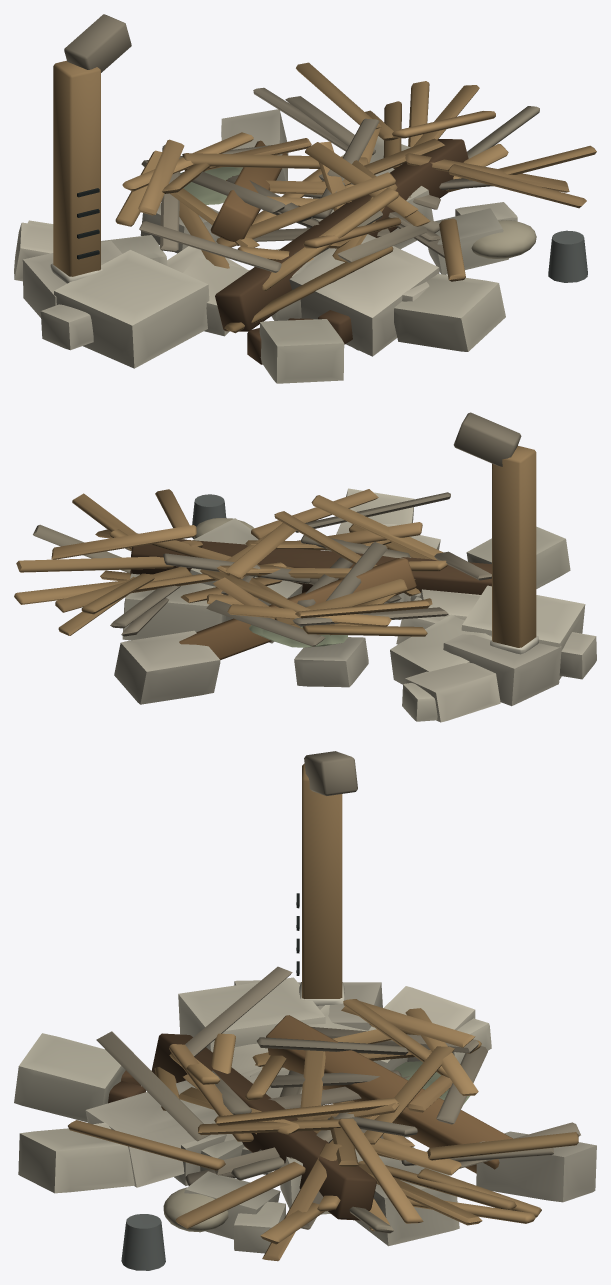
File: gallery_collapse_a_lod1.glb
3 views of the same model, one above another, from view 1: azimuth 30°, elevation 25°; view 2: azimuth 150°, elevation 25°; view 3: azimuth 270°, elevation 25° (orthographic). The views are drawn at different scales.
Parts seen in each view (by area): view 1: Surface.001; view 2: Surface.001; view 3: Surface.001.
Part boxes in pixels (x1=…): Surface.001: x1=14, y1=14, x2=596, y2=383; Surface.001: x1=14, y1=412, x2=596, y2=722; Surface.001: x1=14, y1=751, x2=596, y2=1270.
Bounding box in the file's own units: 7.81 × 3.97 × 6.53.
